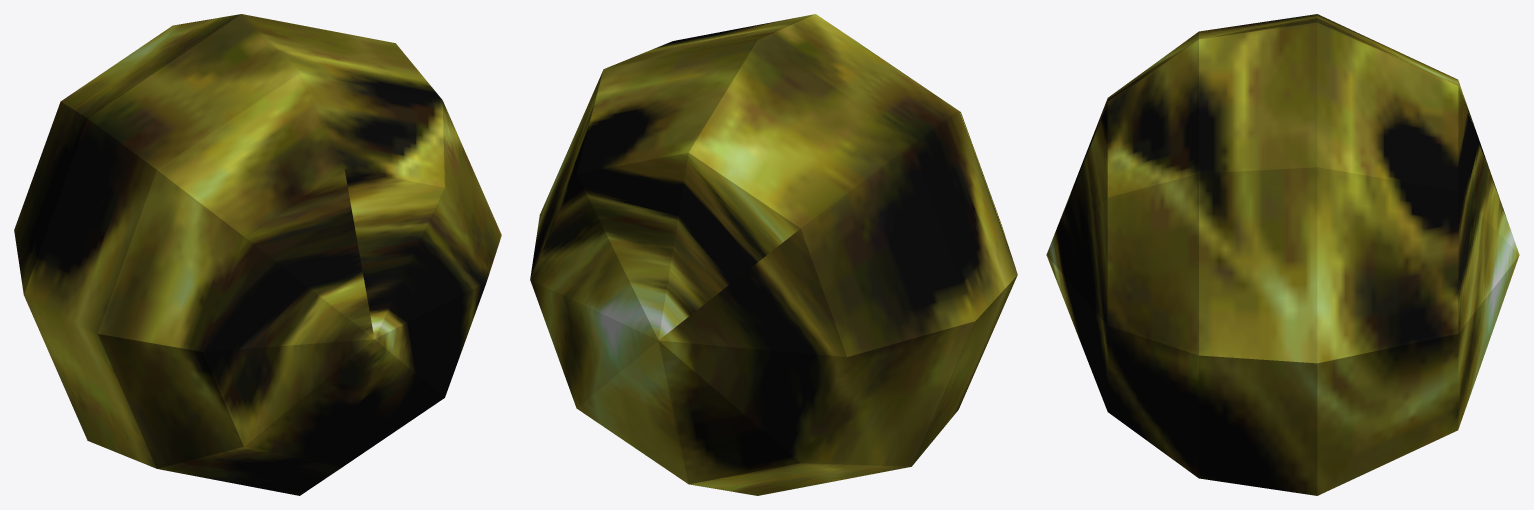
The model's file is tx_mingjie_yewai_340_deng_01.obj.
3 renders of one model, left to right at view 1: azimuth 30°, elevation 25°; view 2: azimuth 150°, elevation 25°; view 3: azimuth 270°, elevation 25°, orthographic.
Parts seen in each view (by area): view 1: Box01; view 2: Box01; view 3: Box01.
Boxes of the visible parts, left/top/right/bottom form: Box01: left=14, top=14, right=501, bottom=495; Box01: left=530, top=14, right=1017, bottom=495; Box01: left=1046, top=14, right=1519, bottom=495.
Size of the model in its own units: 20.35 by 20.35 by 18.77.
